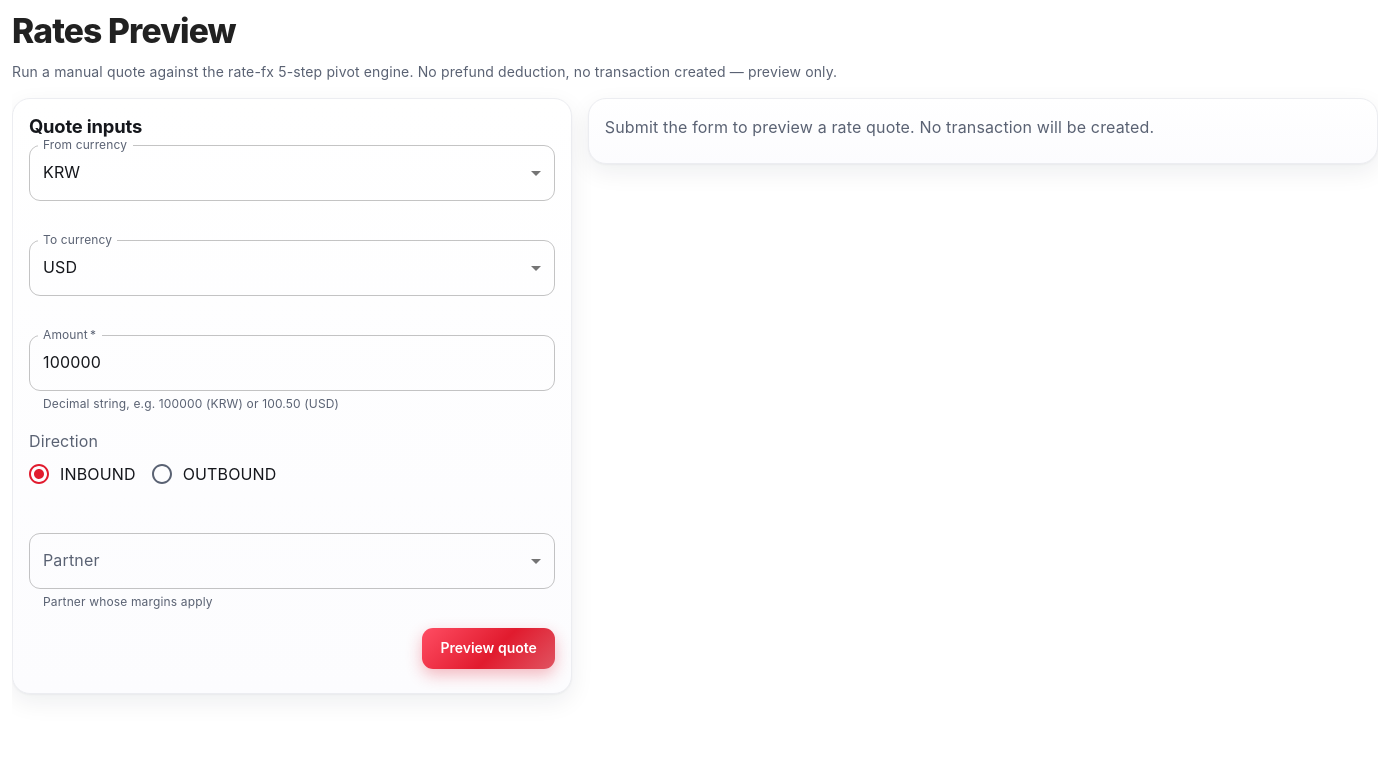
Test: RatesPreviewPage › shows a required-partner validation error when submitting without one
This screenshot has width=1378, height=780.
// Wait for partners list to load (otherwise the Select is empty).
Click the button "Preview quote": coordinates (489, 649) [422,628,555,669]
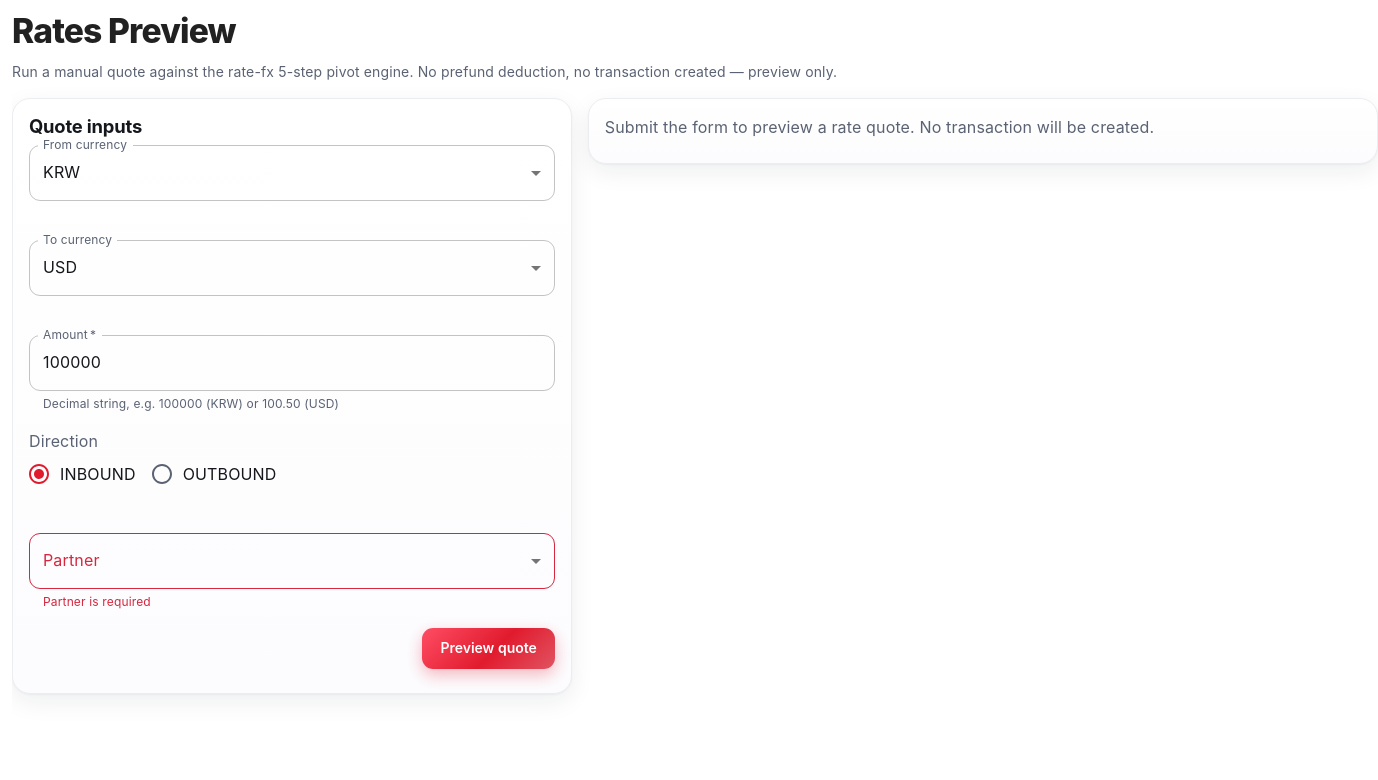
Expected: the text "Partner is required" is shown, [43,594,151,610]
